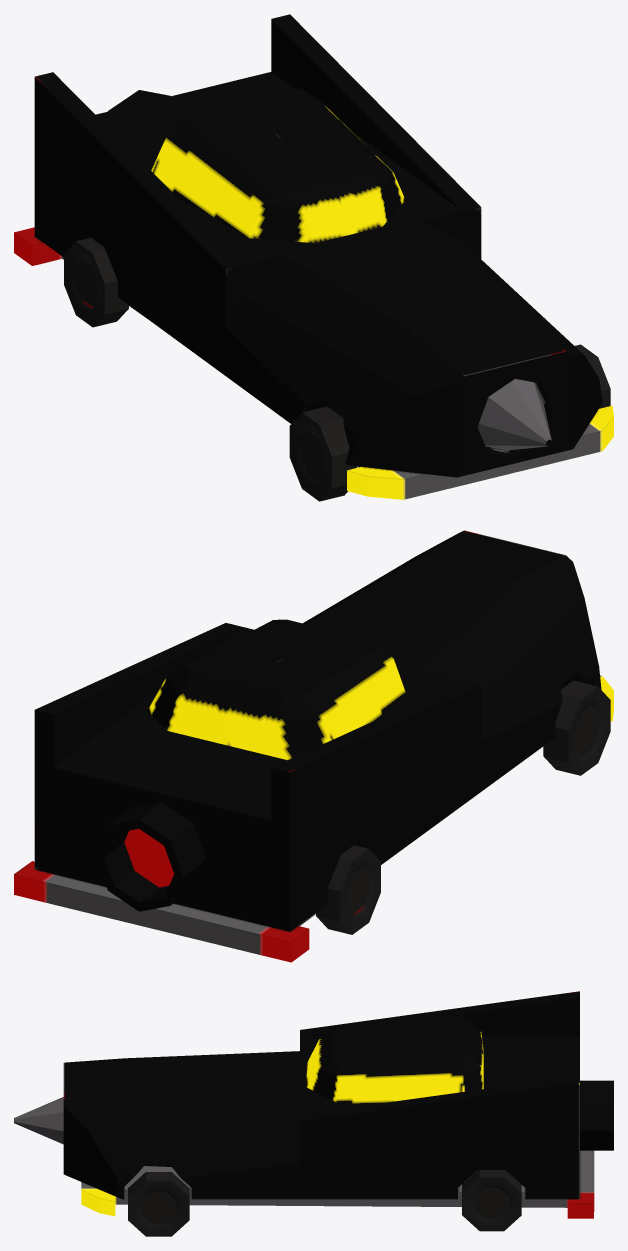
File: Batmobile.fbx
3 views of the same model, one above another, from view 1: azimuth 30°, elevation 25°; view 2: azimuth 150°, elevation 25°; view 3: azimuth 270°, elevation 25° (orthographic). The views are drawn at different scales.
Parts seen in each view (by area): view 1: Betmobile; view 2: Betmobile; view 3: Betmobile.
Boxes of the visible parts, x1=… form: Betmobile: x1=14, y1=14, x2=613, y2=501; Betmobile: x1=14, y1=530, x2=613, y2=962; Betmobile: x1=14, y1=991, x2=613, y2=1236.
Size of the model in its own units: 218 by 155 by 556.
Materials: 1 (1 with a texture image).
